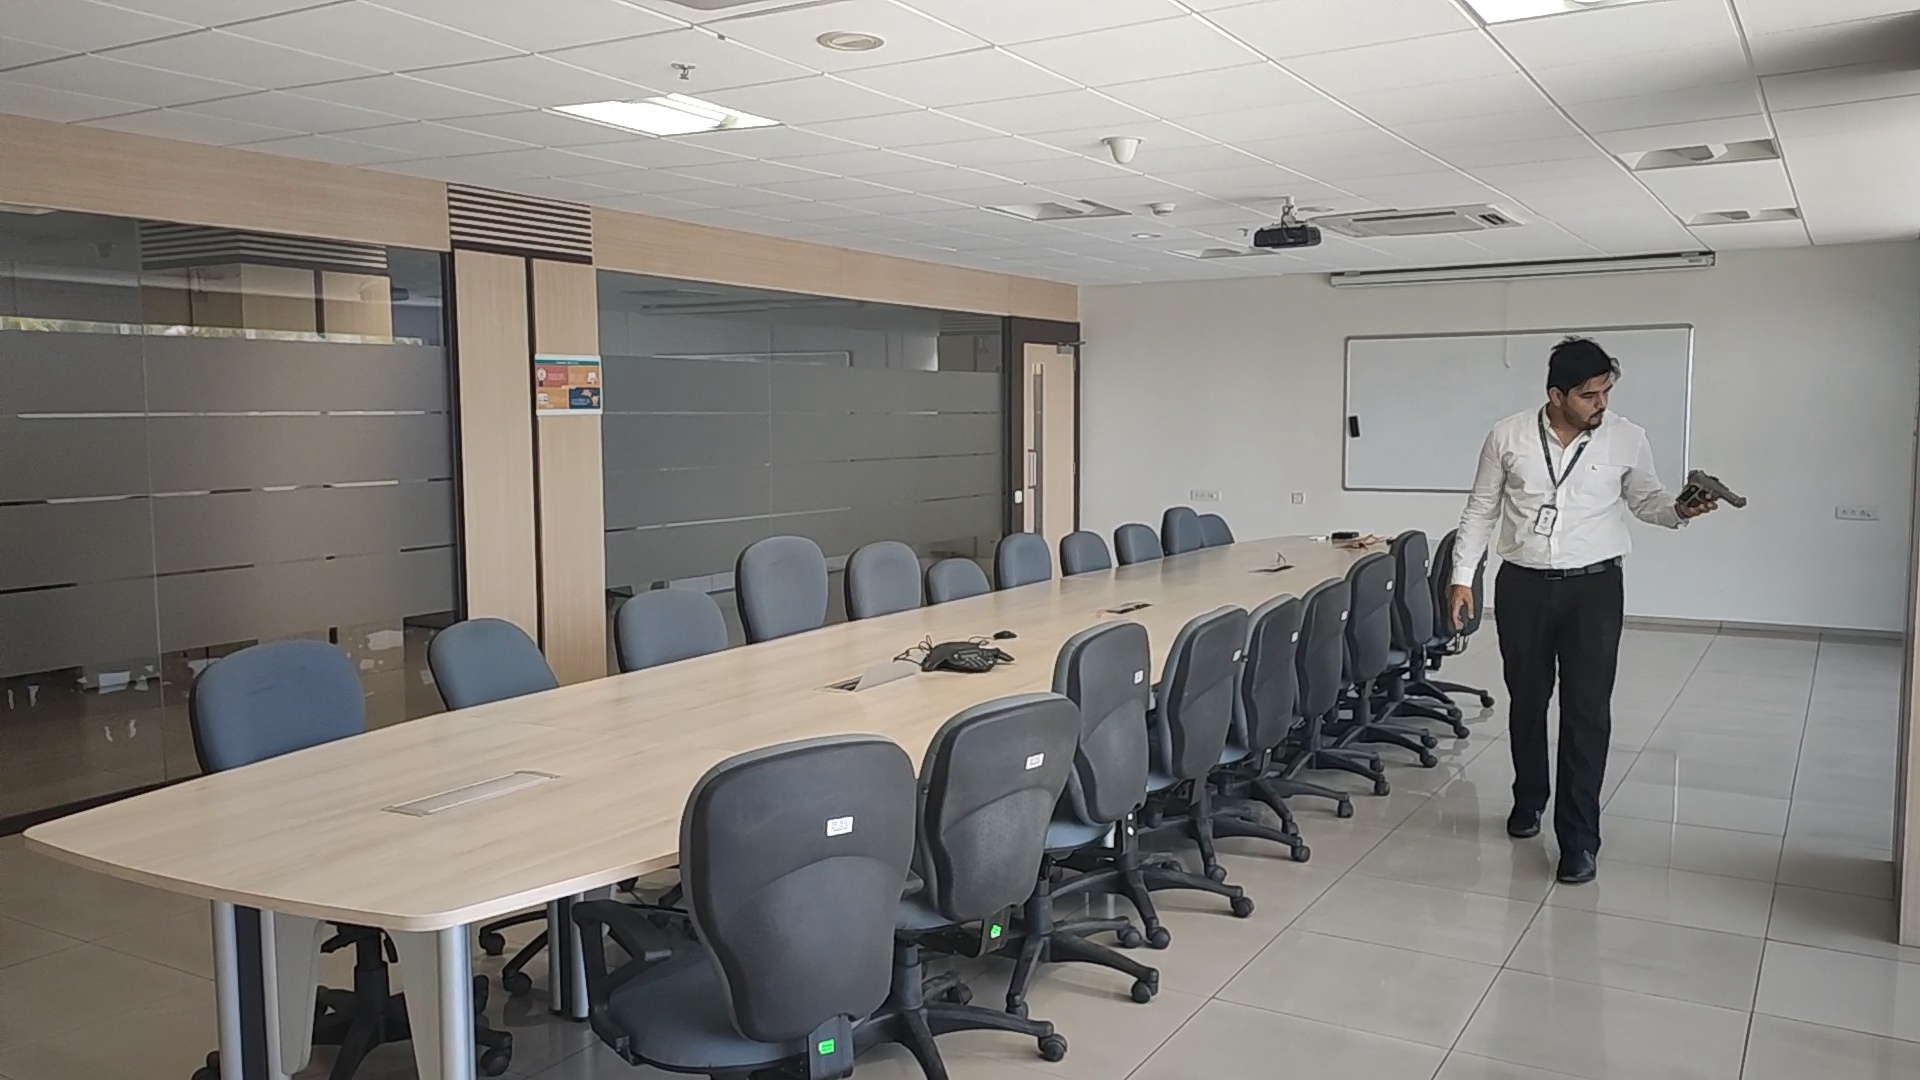gun: (1687, 468, 1747, 510)
